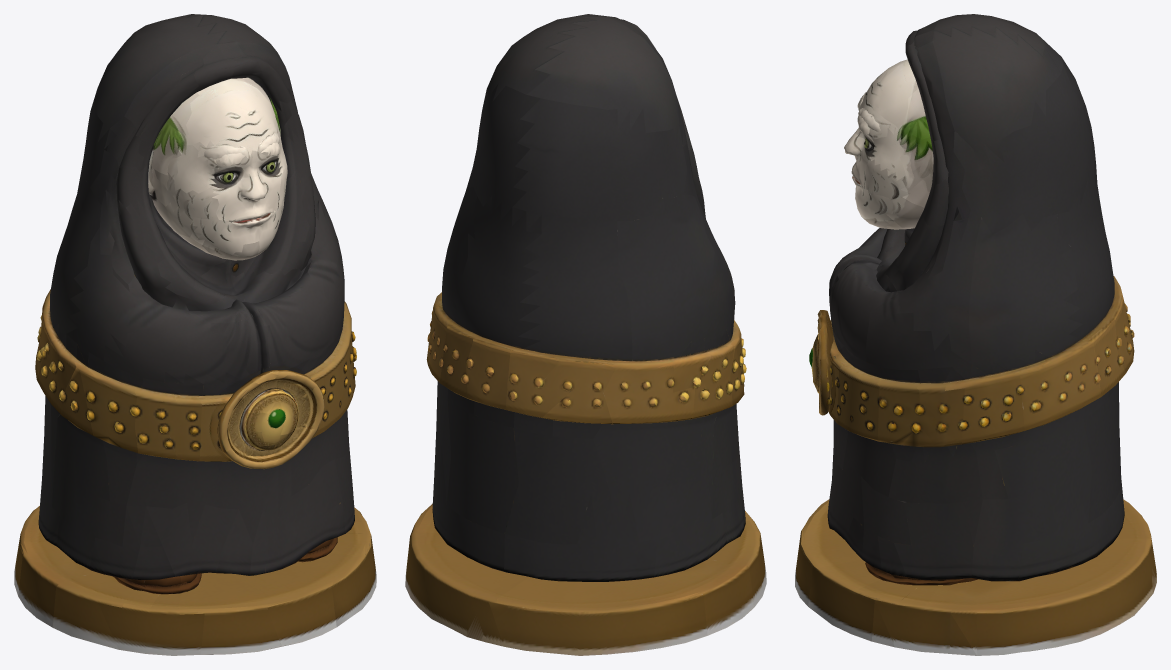
The model's file is hades_v4.glb.
3 views of the same model, side by side, from view 1: azimuth 30°, elevation 25°; view 2: azimuth 150°, elevation 25°; view 3: azimuth 270°, elevation 25° (orthographic).
Visible parts, largest first — view 1: mesh_node; view 2: mesh_node; view 3: mesh_node.
Boxes of the visible parts, box(x1,y1,x2,y2) form: mesh_node: box(14, 14, 376, 655); mesh_node: box(405, 14, 766, 655); mesh_node: box(795, 14, 1156, 655).
Bounding box in the file's own units: 0.5976 × 1 × 0.5937.
Materials: 1 (1 with a texture image).
